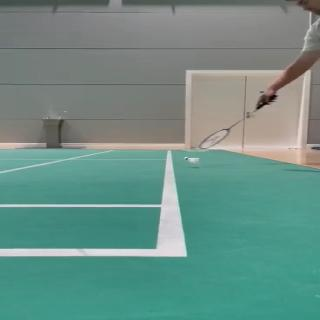Shuttle: (183, 156, 200, 164)
